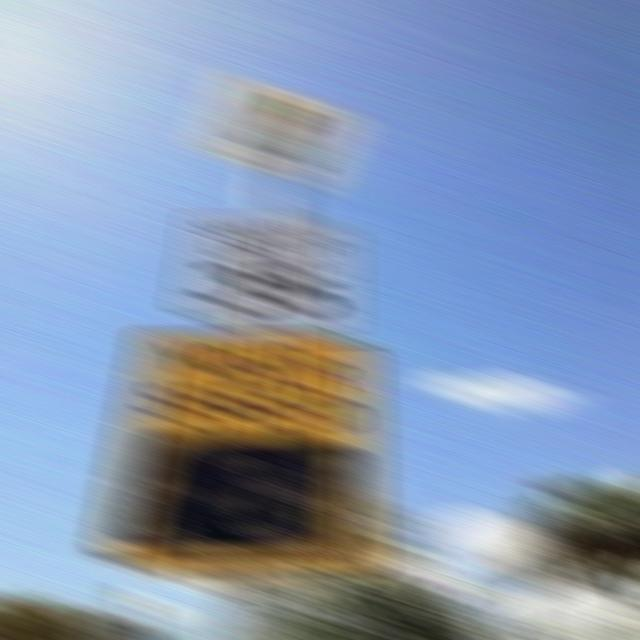speedLimit35: (178, 212, 356, 327)
